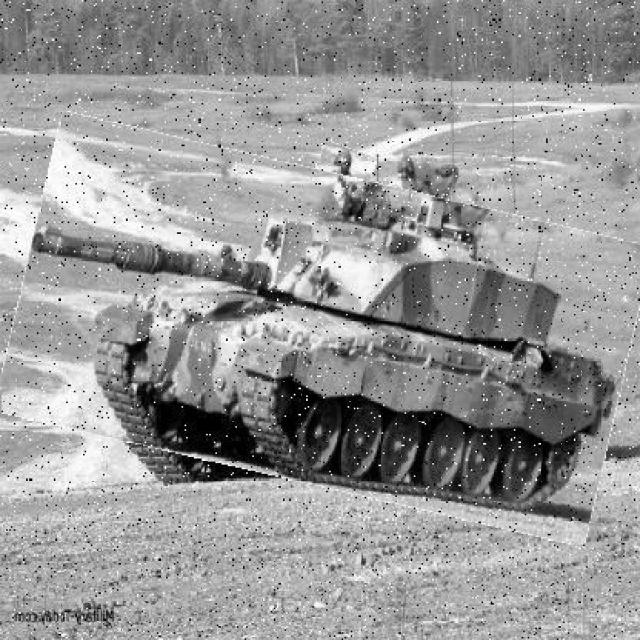Person: (307, 146, 372, 223)
Tank: (9, 144, 640, 516)
